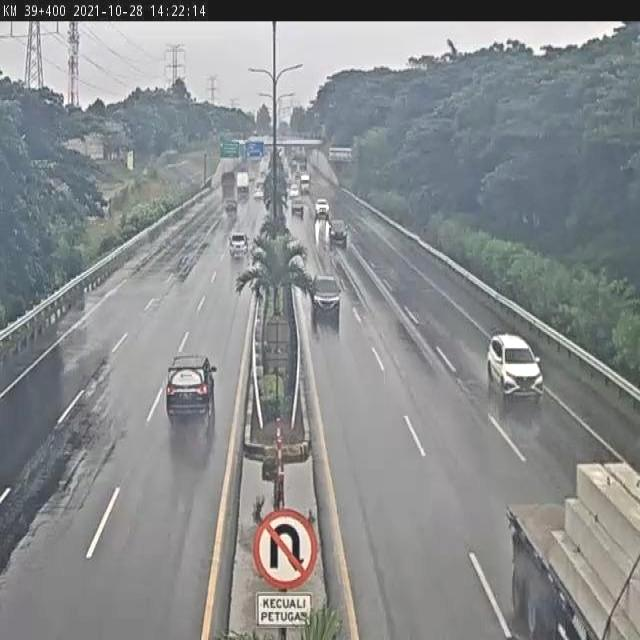Car: (488, 331, 544, 410), (168, 352, 216, 419), (310, 274, 342, 332), (229, 232, 249, 260), (328, 220, 348, 248), (291, 194, 304, 217), (315, 198, 329, 218), (224, 198, 237, 214), (300, 173, 310, 193), (288, 184, 300, 200)
Truck: (510, 456, 640, 640), (237, 169, 250, 195)
